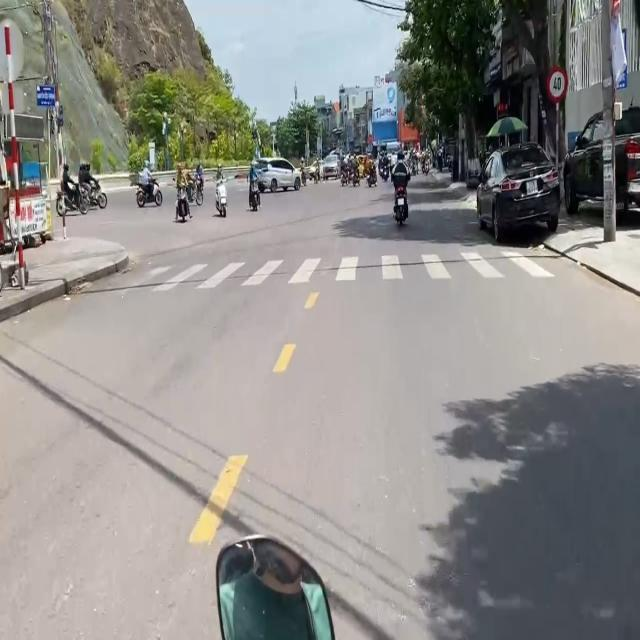walk-crossing: (104, 246, 556, 290)
